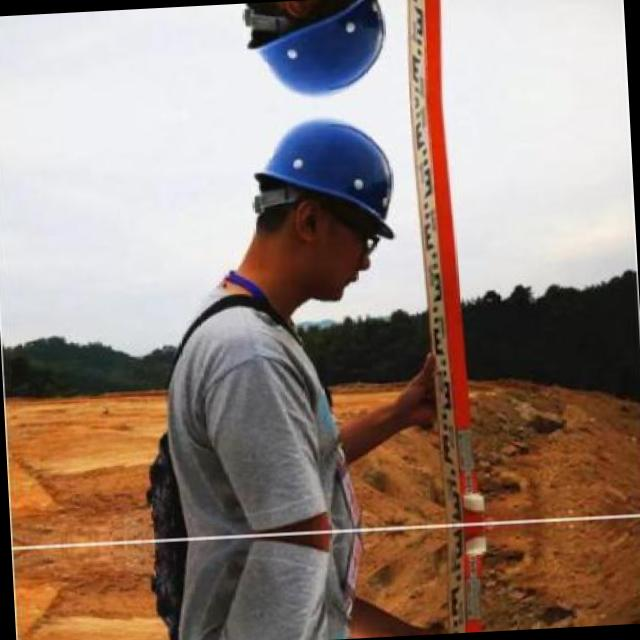helmet: (228, 110, 417, 318), (222, 0, 407, 106)
